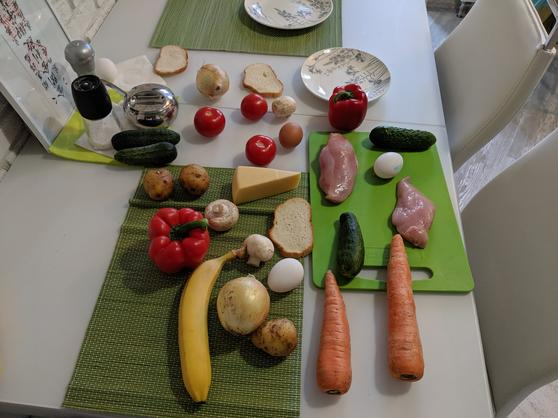banana: (175, 247, 243, 401)
carrot: (383, 234, 425, 381), (315, 270, 351, 395)
champignon: (205, 198, 240, 231), (245, 234, 273, 267), (272, 95, 296, 120)
cheese: (233, 166, 300, 203)
chicken_fillet: (391, 178, 436, 247), (319, 131, 358, 202)
cucumber: (334, 212, 366, 281), (369, 126, 437, 149), (111, 127, 182, 148), (115, 142, 178, 165)
egg: (268, 258, 304, 293), (373, 152, 403, 178), (279, 122, 302, 149)
onion: (216, 276, 271, 334), (194, 64, 229, 98)
pepper: (147, 208, 210, 269), (329, 83, 368, 131)
potato: (252, 316, 298, 356), (143, 168, 173, 200), (180, 163, 208, 194)
tomato: (193, 106, 225, 136), (246, 135, 276, 165), (241, 92, 268, 119)
white_bread: (270, 198, 314, 256), (243, 62, 284, 95), (155, 44, 188, 77)
